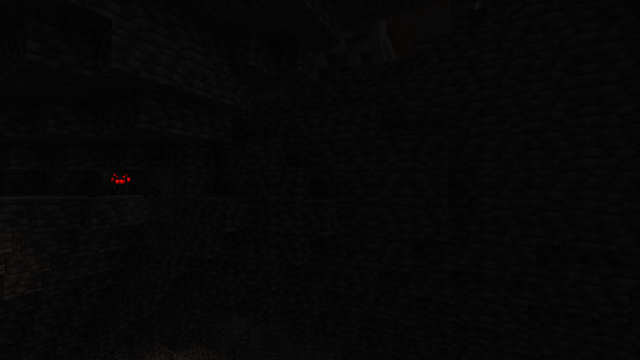araignees: (94, 171, 158, 199)
